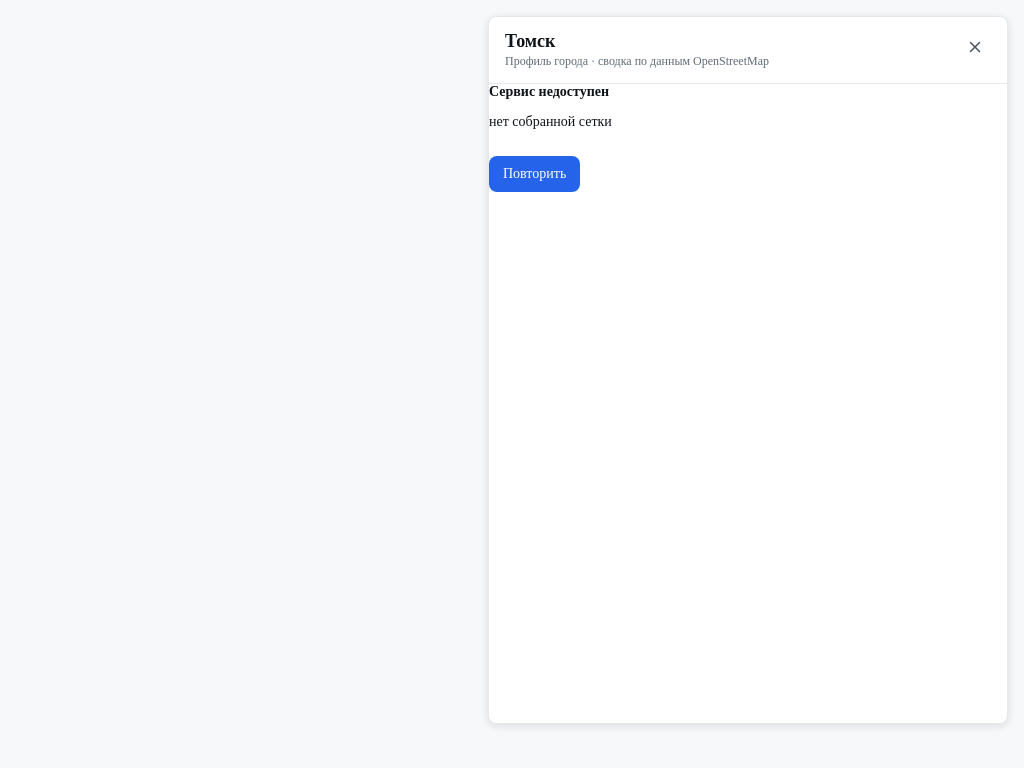
Test: CityProfile › показывает ошибку и умеет повторить запрос
The image size is (1024, 768).
Expected: the element with test id "city-profile-error" shows "Сервис недоступен", [489,84,609,99]
Click the button "Повторить" at (535, 174), box [489,156,580,192]
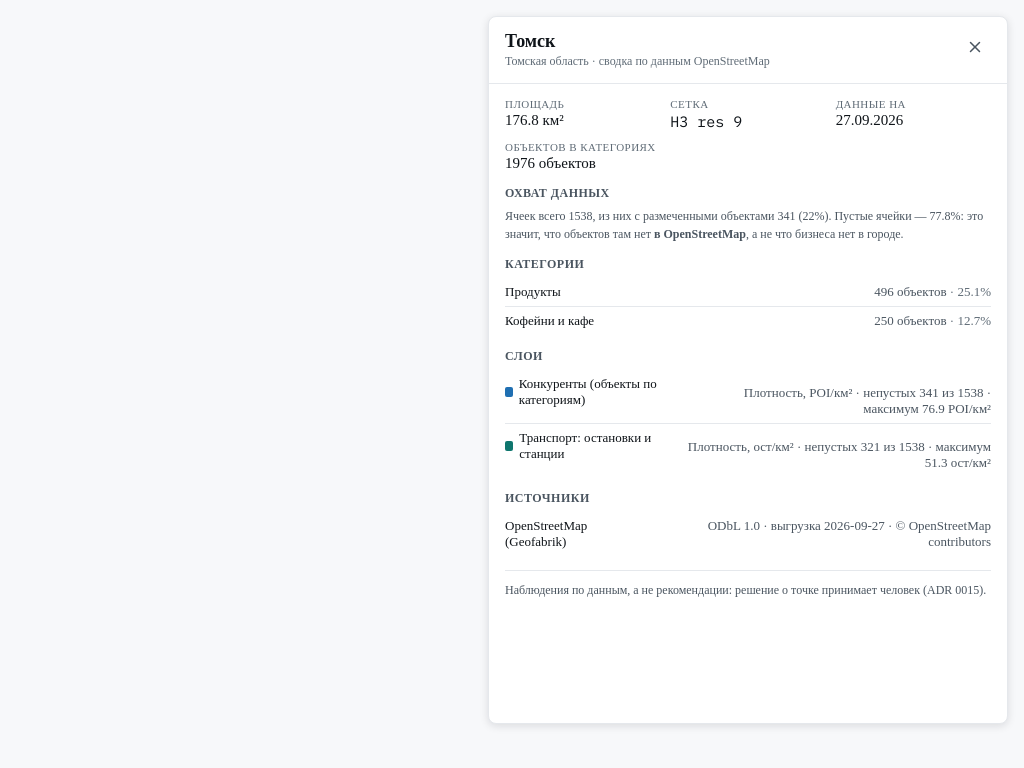
Expected: the element with test id "city-profile-facts" is shown, [505,98,906,171]
